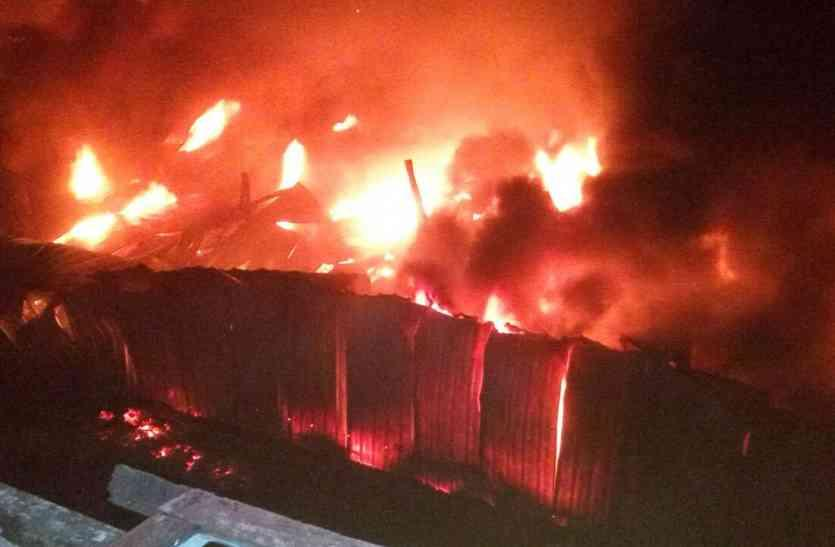Fire: (329, 119, 489, 277), (524, 122, 616, 205), (170, 81, 244, 155), (534, 378, 582, 471), (472, 280, 525, 357), (52, 204, 119, 259), (122, 173, 181, 235), (263, 136, 315, 201), (66, 145, 118, 200), (333, 112, 360, 138)
